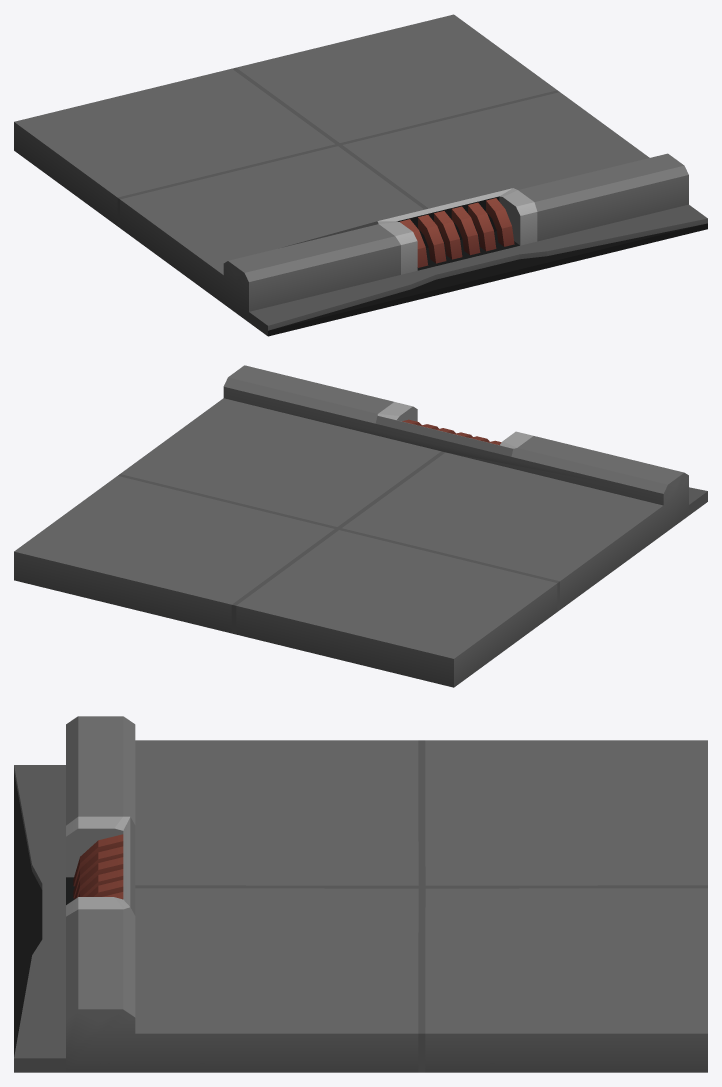
Rendered from Sidewalk3.fbx.
The picture shows the model from 3 angles, top to bottom: view 1: azimuth 30°, elevation 25°; view 2: azimuth 150°, elevation 25°; view 3: azimuth 270°, elevation 25°; orthographic projection. The views are drawn at different scales.
Parts seen in each view (by area): view 1: Plane.017; view 2: Plane.017; view 3: Plane.017.
Boxes of the visible parts, left/top/right/bottom form: Plane.017: left=14, top=14, right=707, bottom=336; Plane.017: left=14, top=365, right=707, bottom=687; Plane.017: left=14, top=716, right=707, bottom=1072.
Size of the model in its own units: 400 by 40.85 by 400.
